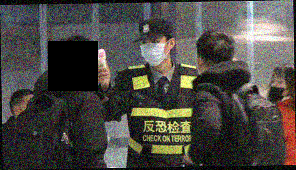with_mask: (138, 38, 168, 68), (267, 76, 287, 103)
